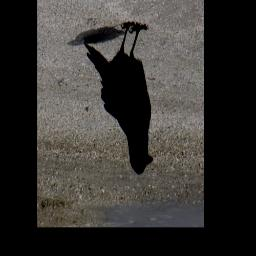Crow: (82, 20, 155, 177)
